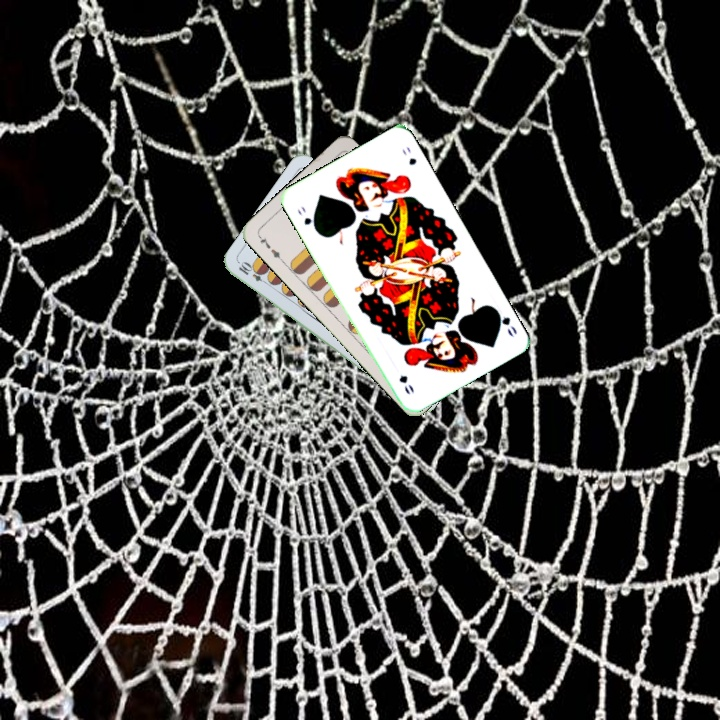E10: (234, 259, 272, 288)
E7: (255, 232, 286, 265)
GO: (490, 304, 519, 340), (293, 202, 320, 234)
